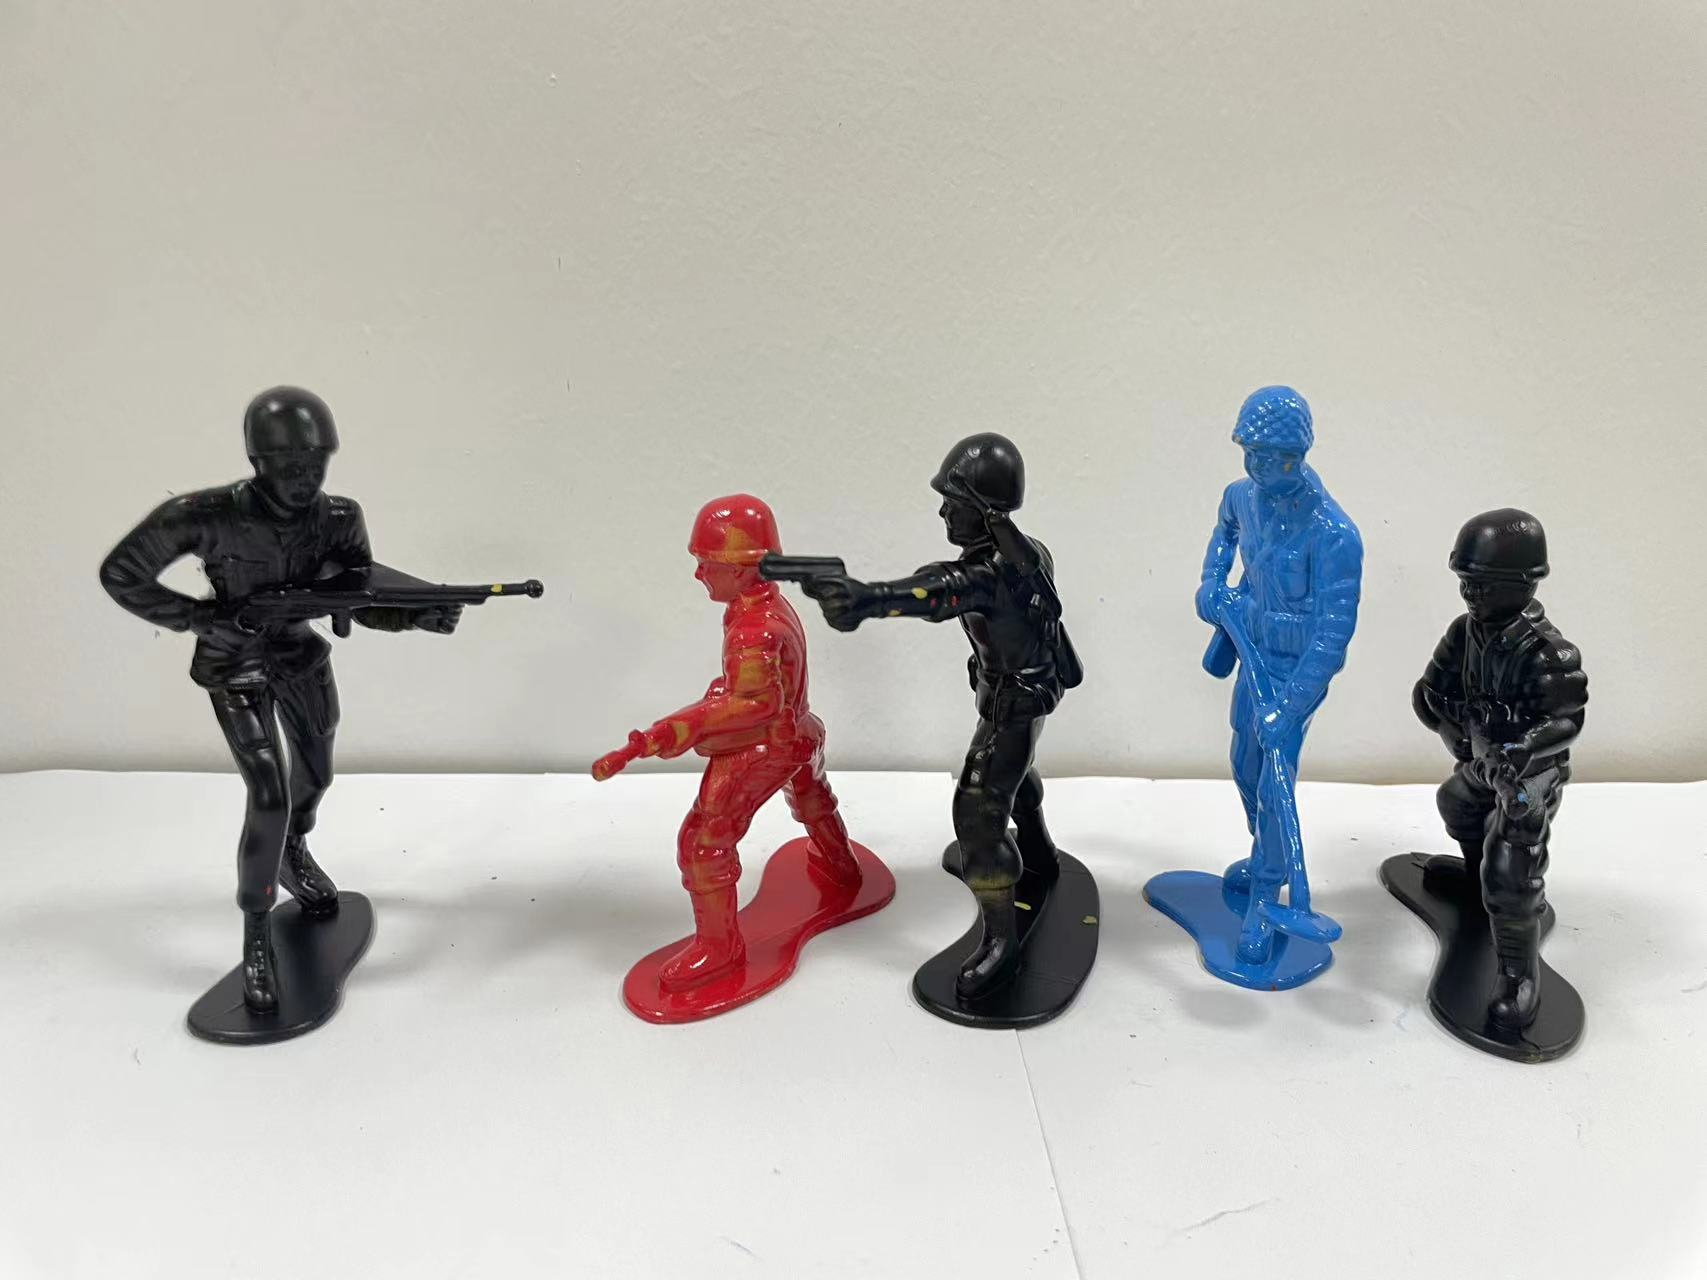black: (70, 346, 542, 1121), (770, 410, 1126, 1072), (1371, 493, 1704, 1104)
blue: (1110, 331, 1398, 1065)
red: (577, 445, 859, 1068)
